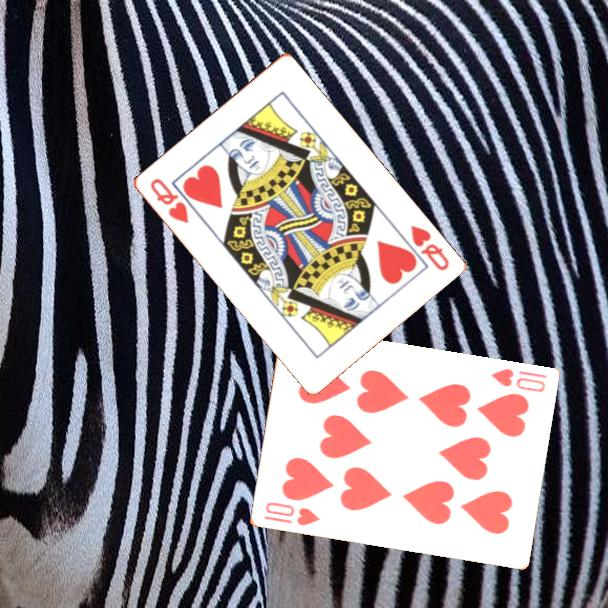h10: (260, 499, 322, 529), (487, 365, 549, 395)
h12: (406, 222, 452, 274), (146, 175, 191, 227)
